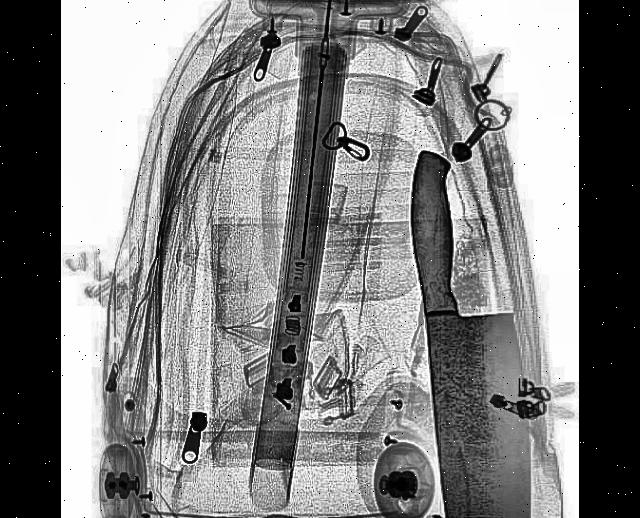Knife: (404, 135, 539, 518)
